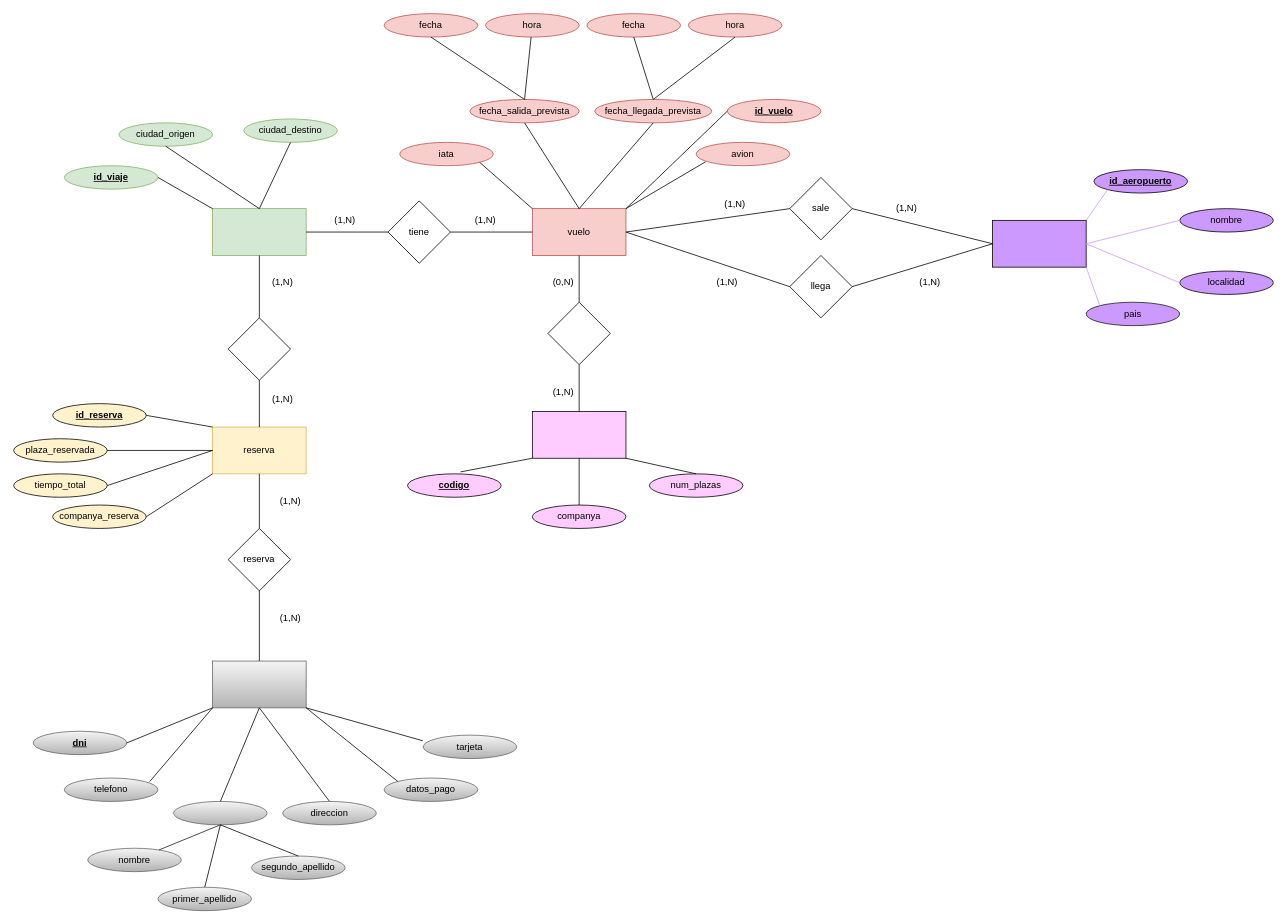
Image size: 1287x924. Some labels were removed from this diagram. The shapes that lost their labels are listed below. From the top down, each one's centre as x and y in pixels, then its label:
At (x=259, y=231): "viaje".
At (x=1039, y=243): "aeropuerto".
At (x=259, y=348): "contiene".
At (x=578, y=333): "realizan".
At (x=579, y=434): "aviones".
At (x=259, y=684): "cliente".
At (x=220, y=813): "nombre_completo".
